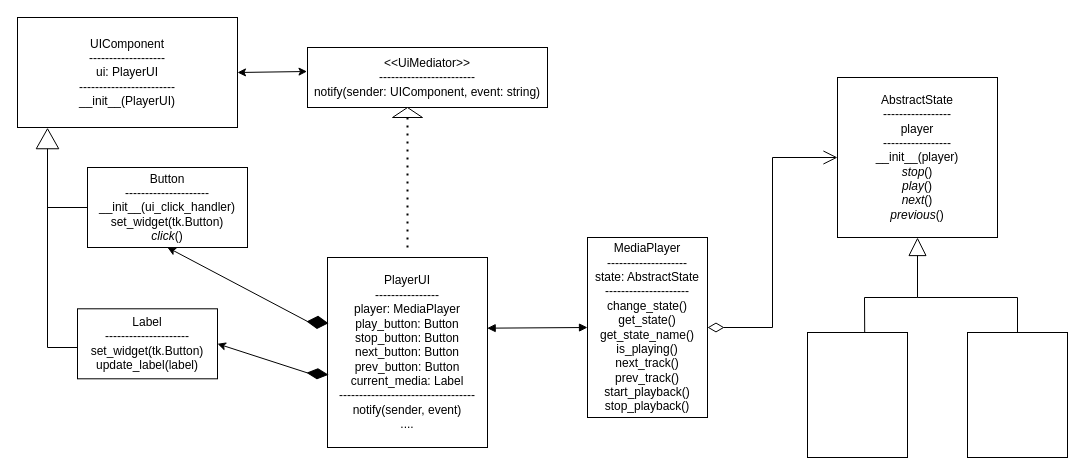
Image size: 1085x475. Some labels were removed from this diagram. The centre of each missing label's shape, as x and y in pixels:
PlayingState --------------- play() next() previous() stop(): point 1017,395
ReadyState -------------- play() next() previous() stop(): point 857,395
